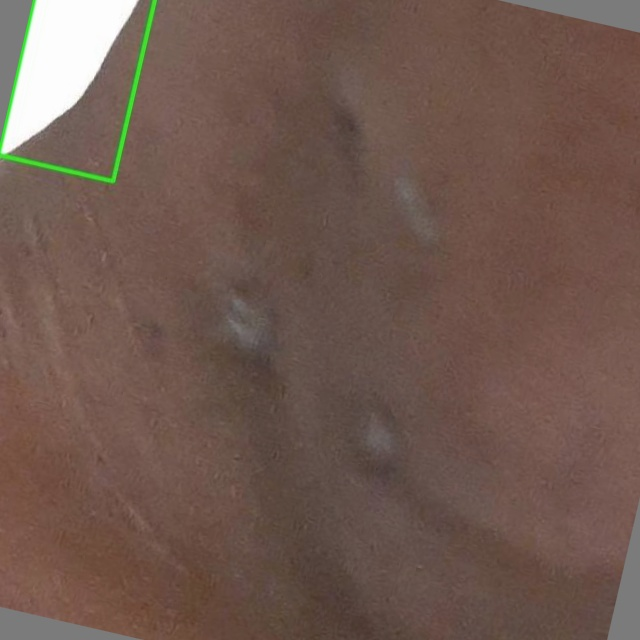Contact Dermatitis: (0, 0, 154, 181)
